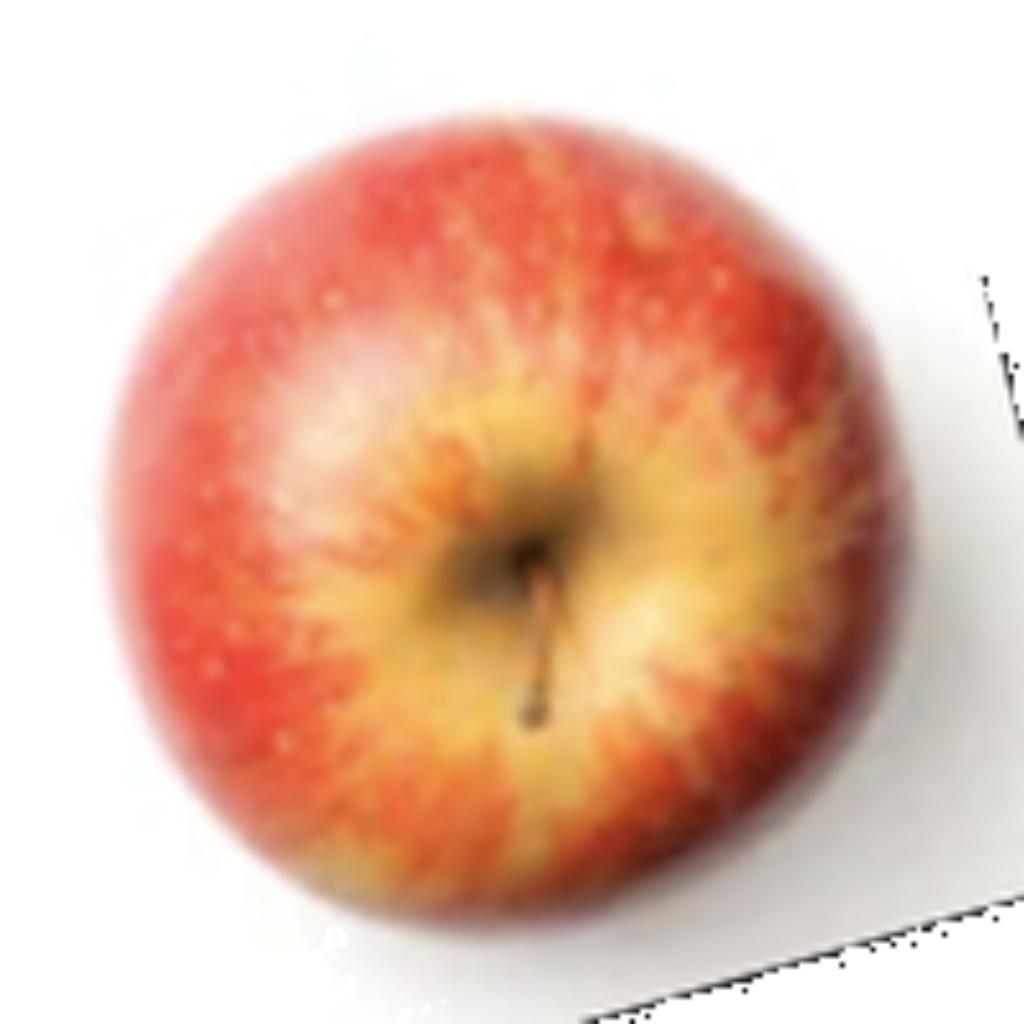apple: (87, 97, 1019, 1019)
